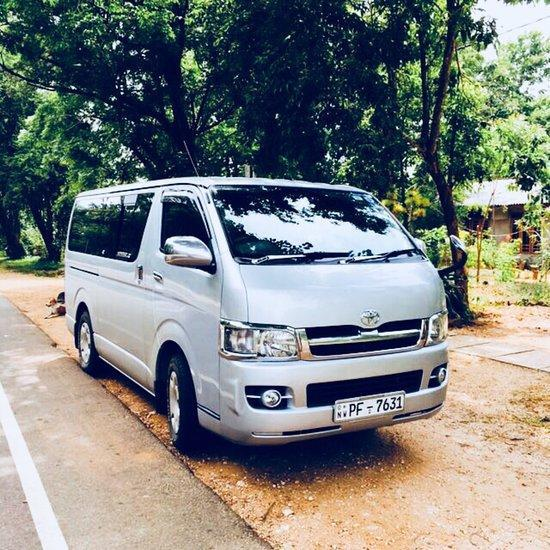car: (61, 176, 451, 454)
